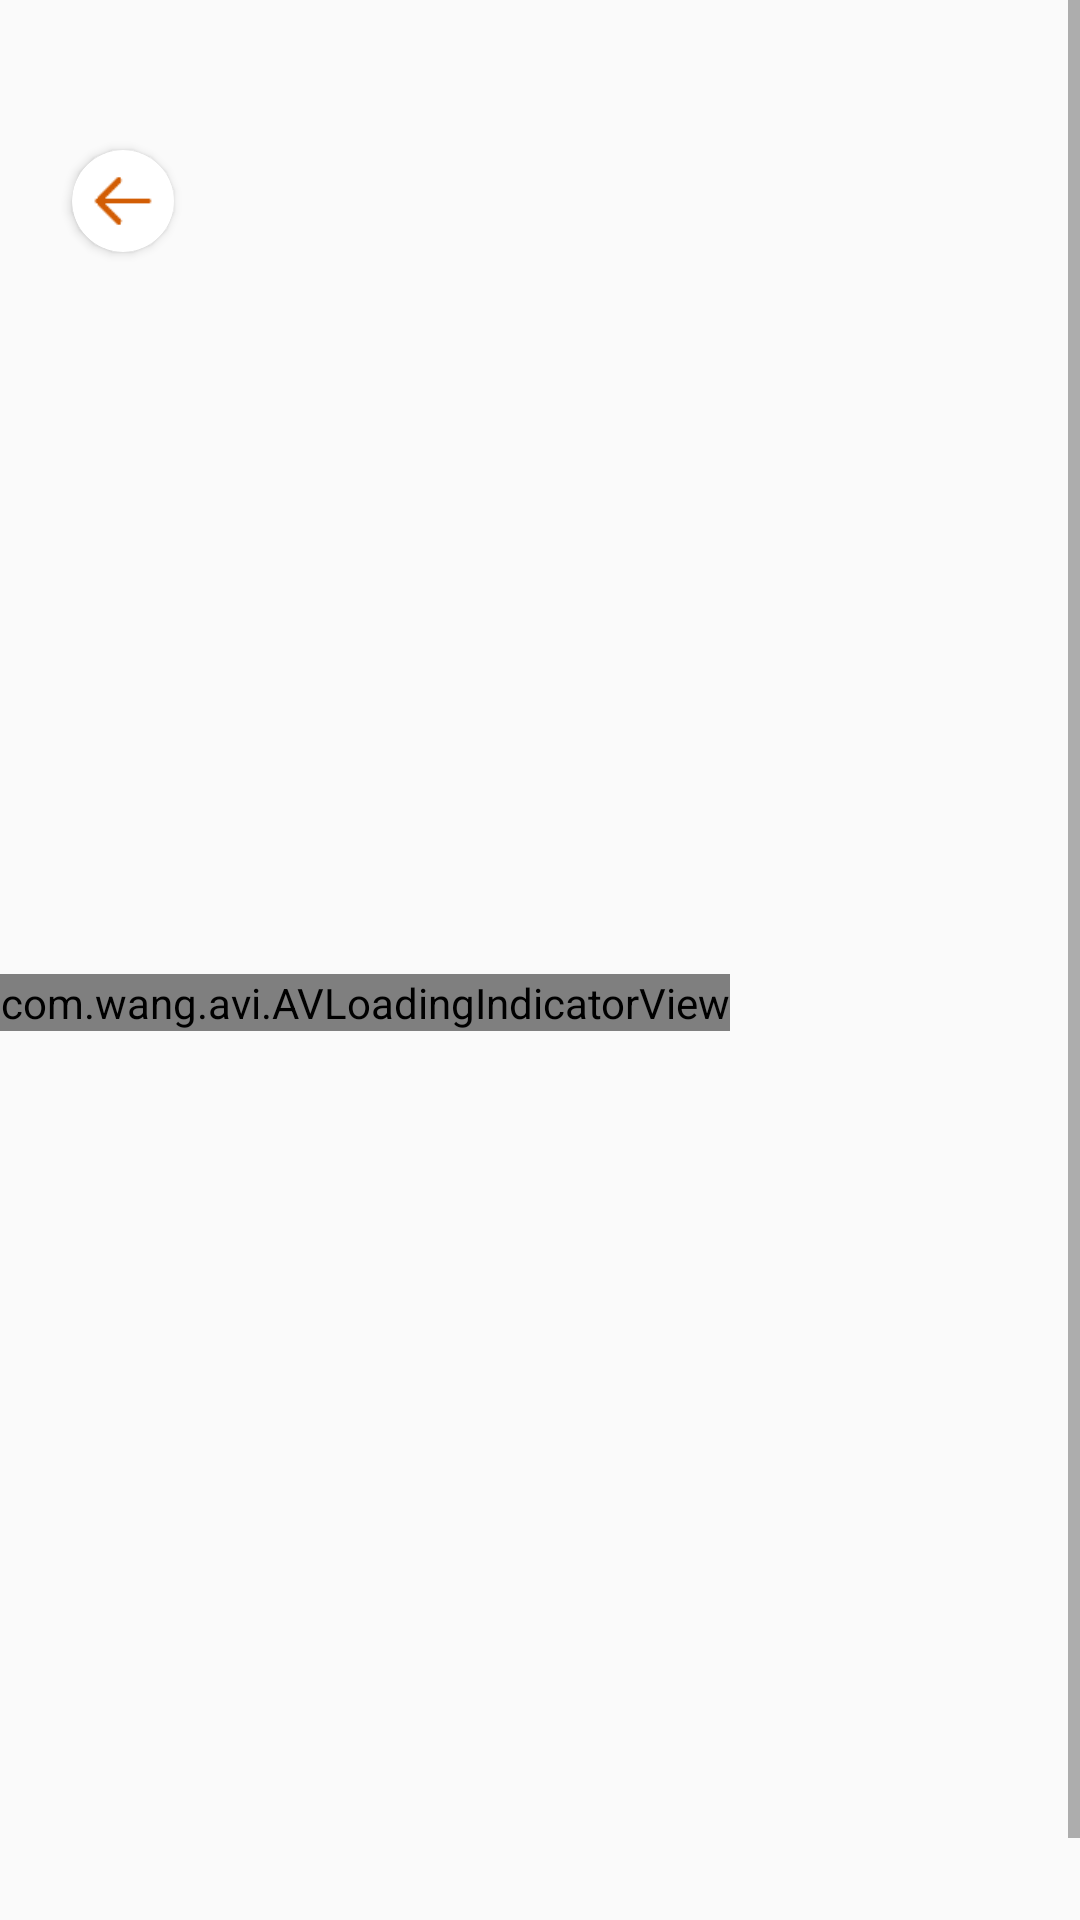

Screen size 1080 × 1920. Icon name, then its center in pixels as [x,y]:
back arrow: [123,201]
